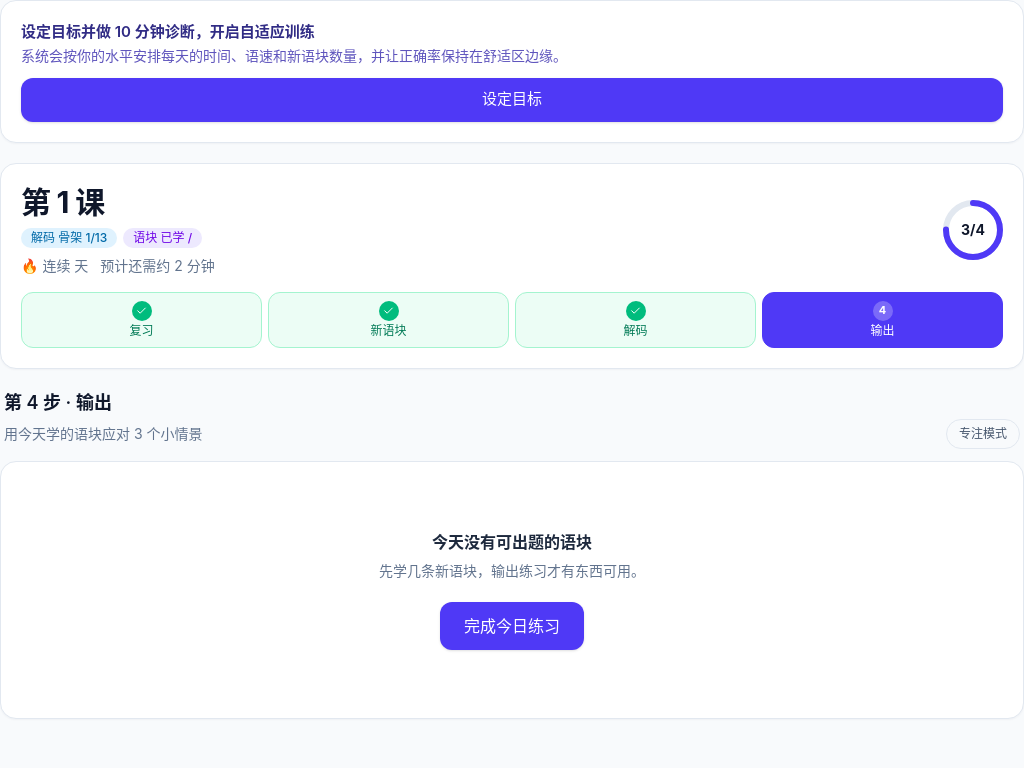
Test: TodayPage v2: step 4 输出 (offline) and completion › without anything learned yet it offers to finish instead of failing
Expected: the text "今天没有可出题的语块" is shown, [432,530,592,554]
Click the button "完成今日练习" at {"x": 512, "y": 626}, box [440,602,584,650]
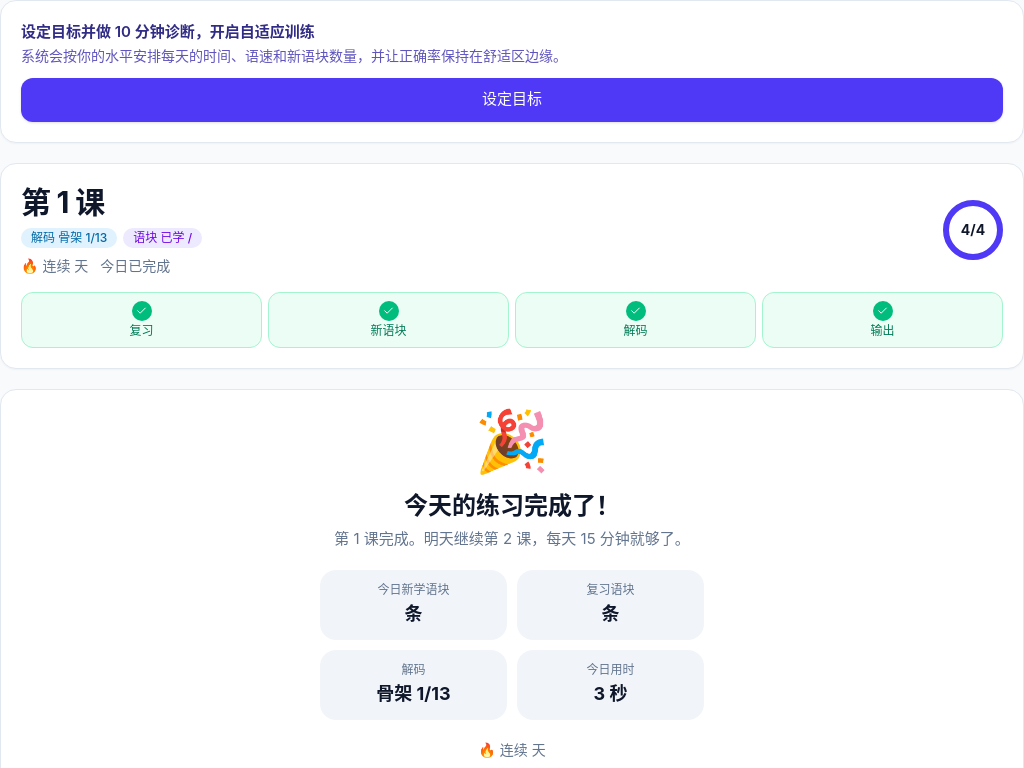
Result: the heading "今天的练习完成了！" is shown at [404,490,620,520]
